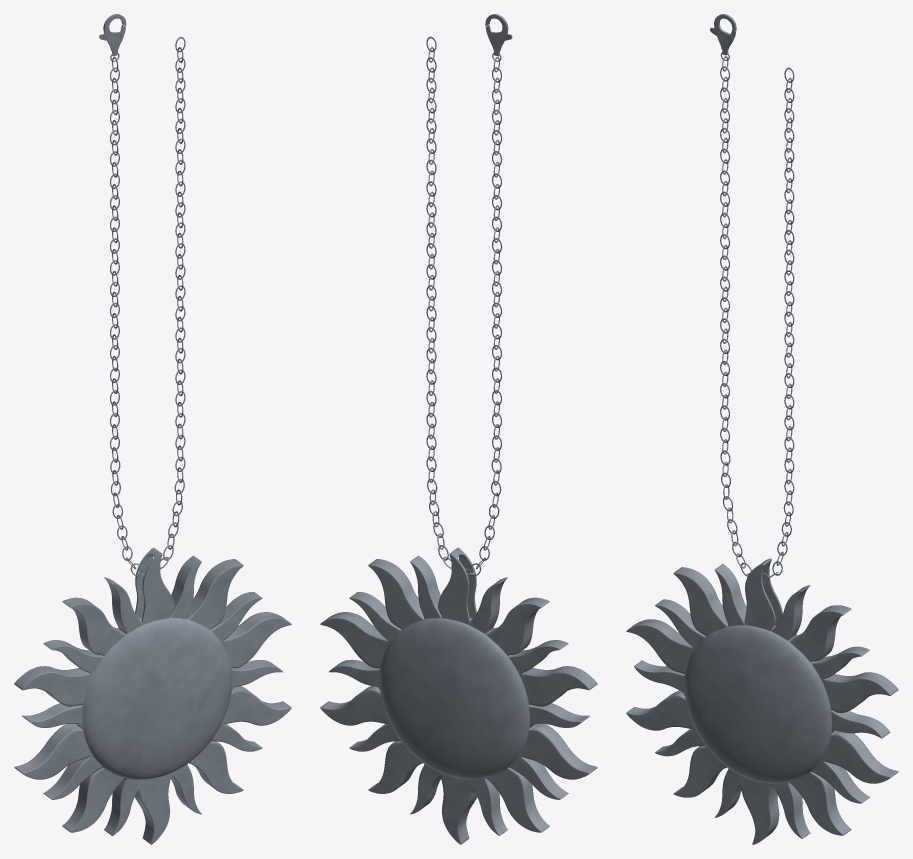
File: necklace78.glb
3 renders of one model, left to right at view 1: azimuth 30°, elevation 25°; view 2: azimuth 150°, elevation 25°; view 3: azimuth 330°, elevation 25°, orthographic.
Visible parts, largest first — view 1: Sun_GEO5, Collana_GEO; view 2: Sun_GEO5, Collana_GEO; view 3: Sun_GEO5, Collana_GEO.
Part boxes in pixels (box(x1,y1,x2,y2)): Sun_GEO5: box(14, 547, 291, 844); Collana_GEO: box(110, 36, 185, 576); Sun_GEO5: box(320, 547, 597, 844); Collana_GEO: box(426, 36, 502, 576); Sun_GEO5: box(626, 558, 898, 844); Collana_GEO: box(720, 56, 794, 583).
Size of the model in its own units: 0.0746 by 0.2208 by 0.0113.
3 materials, 3 textured.
